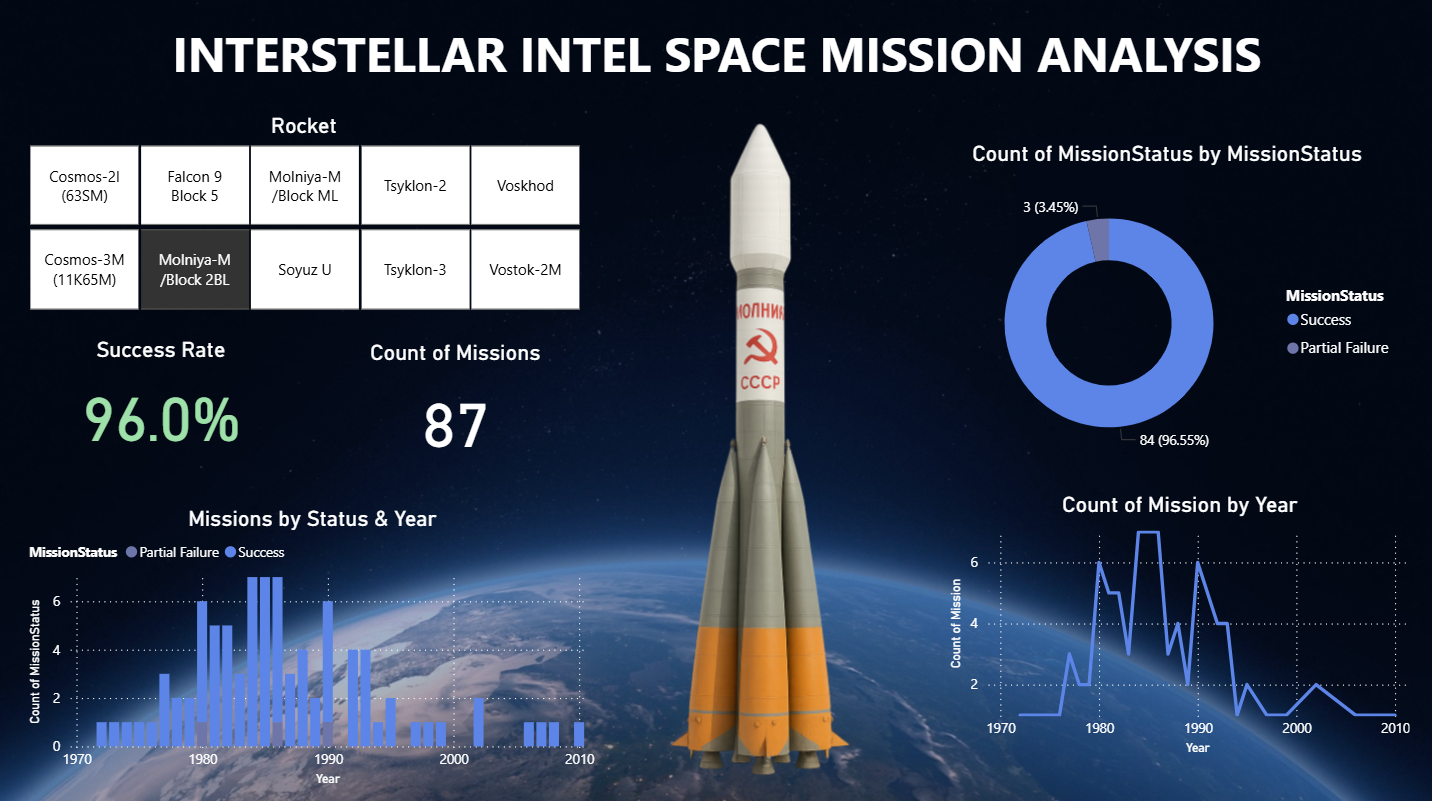

The page's visual inventory and layout, read from the dashboard file:
{"tool":"powerbi","page":{"name":"Rocket Analysis","canvas":[1280,720],"ordinal":1},"visuals":[{"type":"simpleImageEBC4593F96F1425FB3D84C5BF02B5075","fields":{"imageURL":["Sheet1.URL"]},"box":[448.7,93,460.1,626.9],"z":0},{"type":"slicer","title":"Rocket","fields":{"Values":["cleaned_missions.Rocket"]},"box":[9.3,103.5,527.9,181.4],"z":1000},{"type":"donutChart","fields":{"Category":["cleaned_missions.MissionStatus"],"Y":["CountNonNull(cleaned_missions.MissionStatus)"]},"box":[826.9,127.5,426.9,302.6],"z":2000},{"type":"lineChart","fields":{"Category":["cleaned_missions.Year"],"Y":["CountNonNull(cleaned_missions.Mission)"]},"box":[842.5,440.4,418.7,238.3],"z":3000},{"type":"card","title":"Count of Missions","fields":{"Values":["CountNonNull(cleaned_missions.Mission)"]},"box":[277.9,287.2,259.3,148.8],"z":4000},{"type":"kpi","title":"Success Rate","fields":{"Indicator":["cleaned_missions.Rocket Success Rate"],"Goal":["cleaned_missions.Rocket Success Target"],"TrendLine":["cleaned_missions.Quarter"]},"box":[15.1,291.9,260.5,148.8],"z":5000},{"type":"columnChart","title":"Missions by Status & Year","fields":{"Category":["cleaned_missions.Year"],"Y":["CountNonNull(cleaned_missions.MissionStatus)"],"Series":["cleaned_missions.MissionStatus"]},"box":[22.8,451.8,514,253.9],"z":6000},{"type":"textbox","box":[143.3,15,993.3,78.3],"z":7000}]}

Visuals, with their boxes in screenshot pixels (x1, y1, x2, y2), scaled from the page's 1280x720 canvas onto the 1432x801 screenshot:
simpleImageEBC4593F96F1425FB3D84C5BF02B5075 - Sheet1.URL: 502, 103, 1017, 800
"Rocket" slicer: 10, 115, 601, 317
donutChart - cleaned_missions.MissionStatus x CountNonNull(cleaned_missions.MissionStatus): 925, 142, 1403, 478
lineChart - cleaned_missions.Year x CountNonNull(cleaned_missions.Mission): 943, 490, 1411, 755
"Count of Missions" card: 311, 320, 601, 485
"Success Rate" kpi: 17, 325, 308, 490
"Missions by Status & Year" columnChart: 26, 503, 601, 785
textbox: 160, 17, 1272, 104
